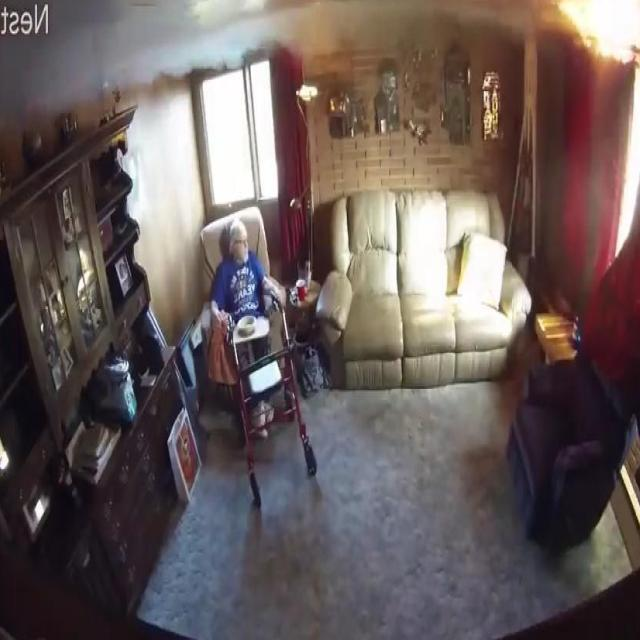fire: (33, 16, 263, 114), (283, 0, 524, 62)
smoke: (558, 0, 640, 63)
